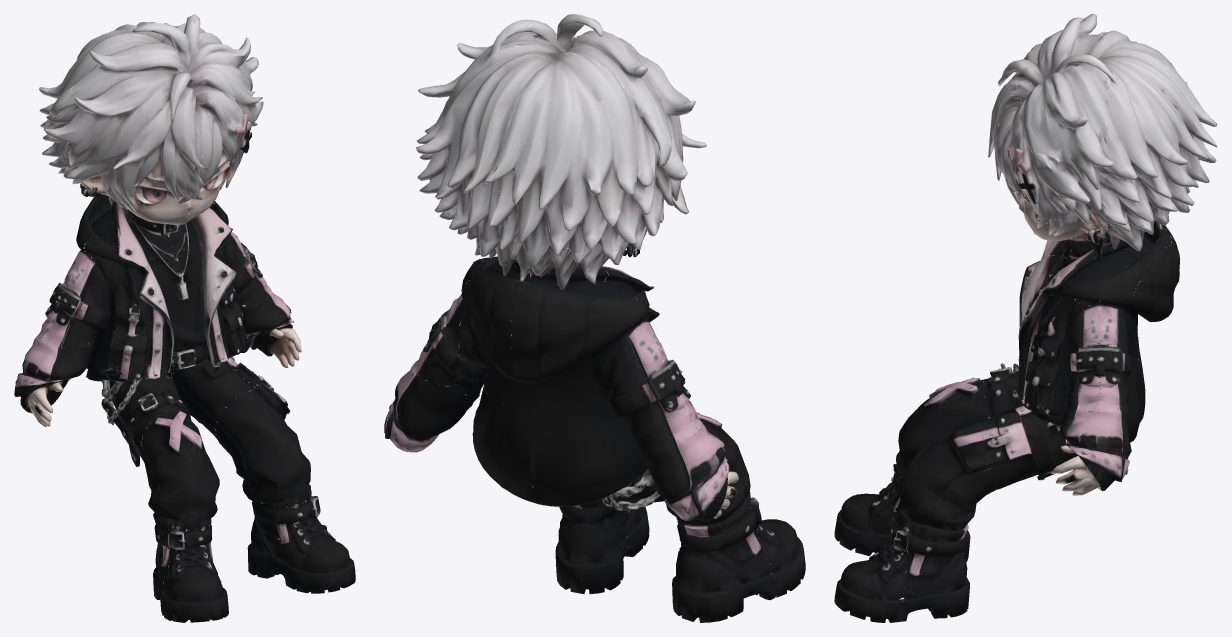
The model's file is studio-visitor-ivory-v3.glb.
The picture shows the model from 3 angles, left to right: view 1: azimuth 30°, elevation 25°; view 2: azimuth 150°, elevation 25°; view 3: azimuth 270°, elevation 25°; orthographic projection. The views are drawn at different scales.
Parts seen in each view (by area): view 1: ivory_continuous_body; view 2: ivory_continuous_body; view 3: ivory_continuous_body.
Part boxes in pixels (left/top/right/bottom): ivory_continuous_body: left=14, top=14, right=355, bottom=622; ivory_continuous_body: left=384, top=14, right=805, bottom=622; ivory_continuous_body: left=834, top=14, right=1217, bottom=622.
Bounding box in the file's own units: 0.58 × 1.06 × 0.6649.
5 materials, 5 textured.
